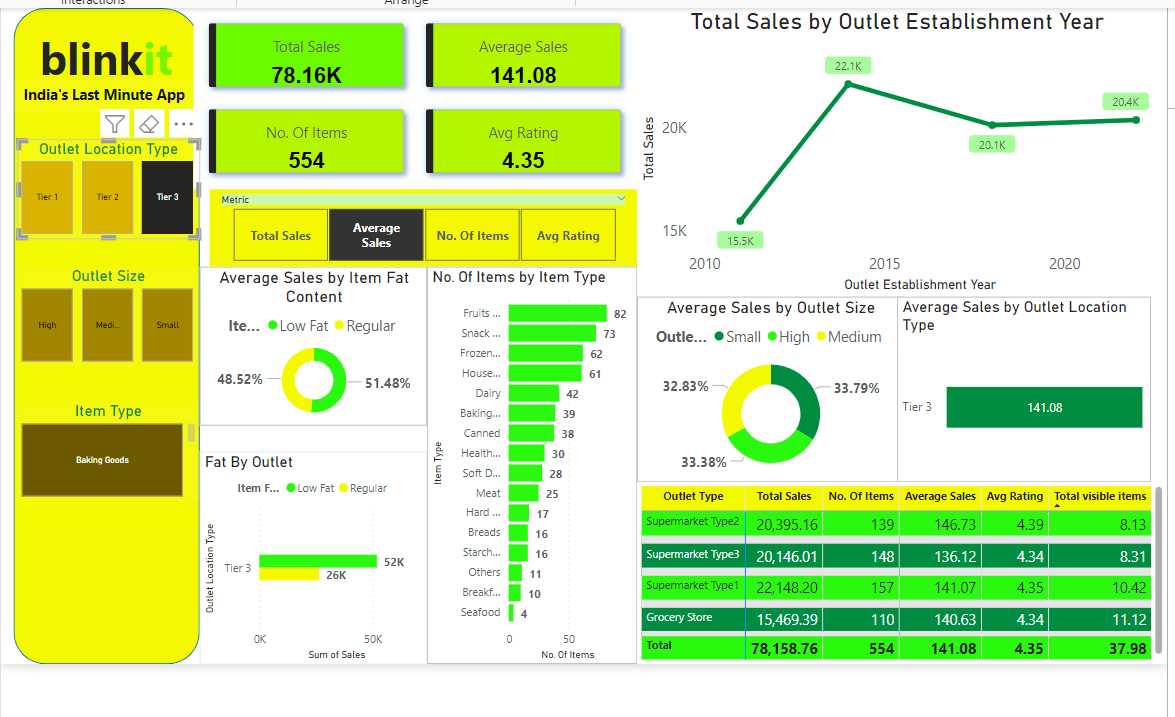

The dashboard page shown, as its layout file describes it:
{"tool":"powerbi","page":{"name":"Page 1","canvas":[1280,720],"ordinal":0},"visuals":[{"type":"shape","box":[13.7,0,204.5,720.4],"z":0},{"type":"textbox","box":[30.2,16.5,170.2,74.1],"z":1000},{"type":"textbox","box":[11,78.2,204.5,37],"z":2000},{"type":"cardVisual","fields":{"Data":["BlinkIT Grocery Data.Total Sales","BlinkIT Grocery Data.Average Sales","BlinkIT Grocery Data.No. Of Items","BlinkIT Grocery Data.Avg Rating"]},"box":[211.3,0,487.1,199],"z":3000},{"type":"donutChart","fields":{"Y":["BlinkIT Grocery Data.Average Sales"],"Category":["BlinkIT Grocery Data.Item Fat Content"]},"box":[218.2,284,249.7,174.3],"z":4000},{"type":"slicer","fields":{"Values":["Metric.Metric"]},"box":[229.2,199,469.3,85.1],"z":5000},{"type":"clusteredBarChart","title":"Fat By Outlet","fields":{"Y":["Sum(BlinkIT Grocery Data.Sales)"],"Category":["BlinkIT Grocery Data.Outlet Location Type"],"Series":["BlinkIT Grocery Data.Item Fat Content"]},"box":[218.2,487.1,249.7,233.3],"z":6000},{"type":"clusteredBarChart","fields":{"Y":["BlinkIT Grocery Data.No. Of Items"],"Category":["BlinkIT Grocery Data.Item Type"]},"box":[467.9,284,230.5,436.4],"z":7000},{"type":"lineChart","fields":{"Y":["BlinkIT Grocery Data.Total Sales"],"Category":["BlinkIT Grocery Data.Outlet Establishment Year"]},"box":[698.5,0,570.8,317],"z":8000},{"type":"donutChart","fields":{"Y":["BlinkIT Grocery Data.Average Sales"],"Category":["BlinkIT Grocery Data.Outlet Size"]},"box":[698.5,317,292.3,203.1],"z":9000},{"type":"funnel","fields":{"Y":["BlinkIT Grocery Data.Average Sales"],"Category":["BlinkIT Grocery Data.Outlet Location Type"]},"box":[983.9,317,278.6,203.1],"z":10000},{"type":"pivotTable","fields":{"Values":["BlinkIT Grocery Data.Total Sales","BlinkIT Grocery Data.No. Of Items","BlinkIT Grocery Data.Average Sales","BlinkIT Grocery Data.Avg Rating","Sum(BlinkIT Grocery Data.Item Visibility)"],"Rows":["BlinkIT Grocery Data.Outlet Type"]},"box":[698.5,520.1,581.8,200.3],"z":11000},{"type":"advancedSlicerVisual","fields":{"Values":["BlinkIT Grocery Data.Outlet Size"]},"box":[17.8,284,200.3,109.8],"z":12000},{"type":"advancedSlicerVisual","fields":{"Values":["BlinkIT Grocery Data.Outlet Location Type"]},"box":[17.8,144.1,200.3,109.8],"z":13000},{"type":"advancedSlicerVisual","fields":{"Values":["BlinkIT Grocery Data.Item Type"]},"box":[17.8,432.2,200.3,109.8],"z":13001}]}

Visuals, with their boxes on the page's 1280x720 design canvas (x1, y1, x2, y2). These are canvas units, not pixel positions in the 1175x717 screenshot, which may show the page scaled, cropped or inside an application window:
shape: 14,0,218,720
textbox: 30,16,200,91
textbox: 11,78,216,115
cardVisual - BlinkIT Grocery Data.Total Sales x BlinkIT Grocery Data.Average Sales: 211,0,698,199
donutChart - BlinkIT Grocery Data.Average Sales x BlinkIT Grocery Data.Item Fat Content: 218,284,468,458
slicer - Metric.Metric: 229,199,698,284
"Fat By Outlet" clusteredBarChart: 218,487,468,720
clusteredBarChart - BlinkIT Grocery Data.No. Of Items x BlinkIT Grocery Data.Item Type: 468,284,698,720
lineChart - BlinkIT Grocery Data.Total Sales x BlinkIT Grocery Data.Outlet Establishment Year: 698,0,1269,317
donutChart - BlinkIT Grocery Data.Average Sales x BlinkIT Grocery Data.Outlet Size: 698,317,991,520
funnel - BlinkIT Grocery Data.Average Sales x BlinkIT Grocery Data.Outlet Location Type: 984,317,1262,520
pivotTable - BlinkIT Grocery Data.Total Sales x BlinkIT Grocery Data.No. Of Items: 698,520,1280,720
advancedSlicerVisual - BlinkIT Grocery Data.Outlet Size: 18,284,218,394
advancedSlicerVisual - BlinkIT Grocery Data.Outlet Location Type: 18,144,218,254
advancedSlicerVisual - BlinkIT Grocery Data.Item Type: 18,432,218,542
